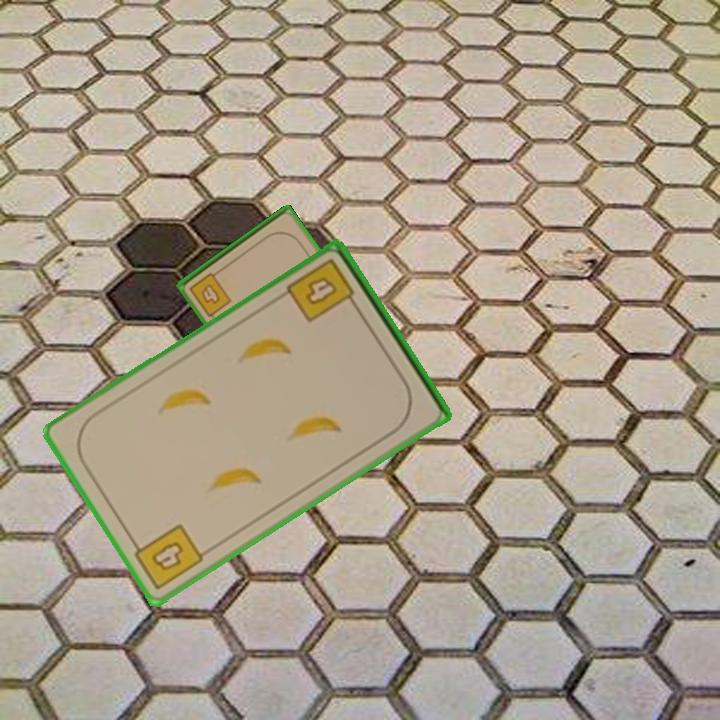4b: (127, 520, 207, 593), (283, 255, 362, 326), (186, 266, 235, 320)
